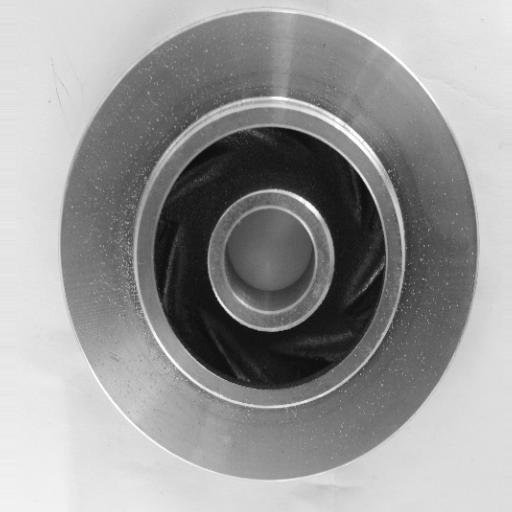polished_casting: (57, 10, 478, 484)
